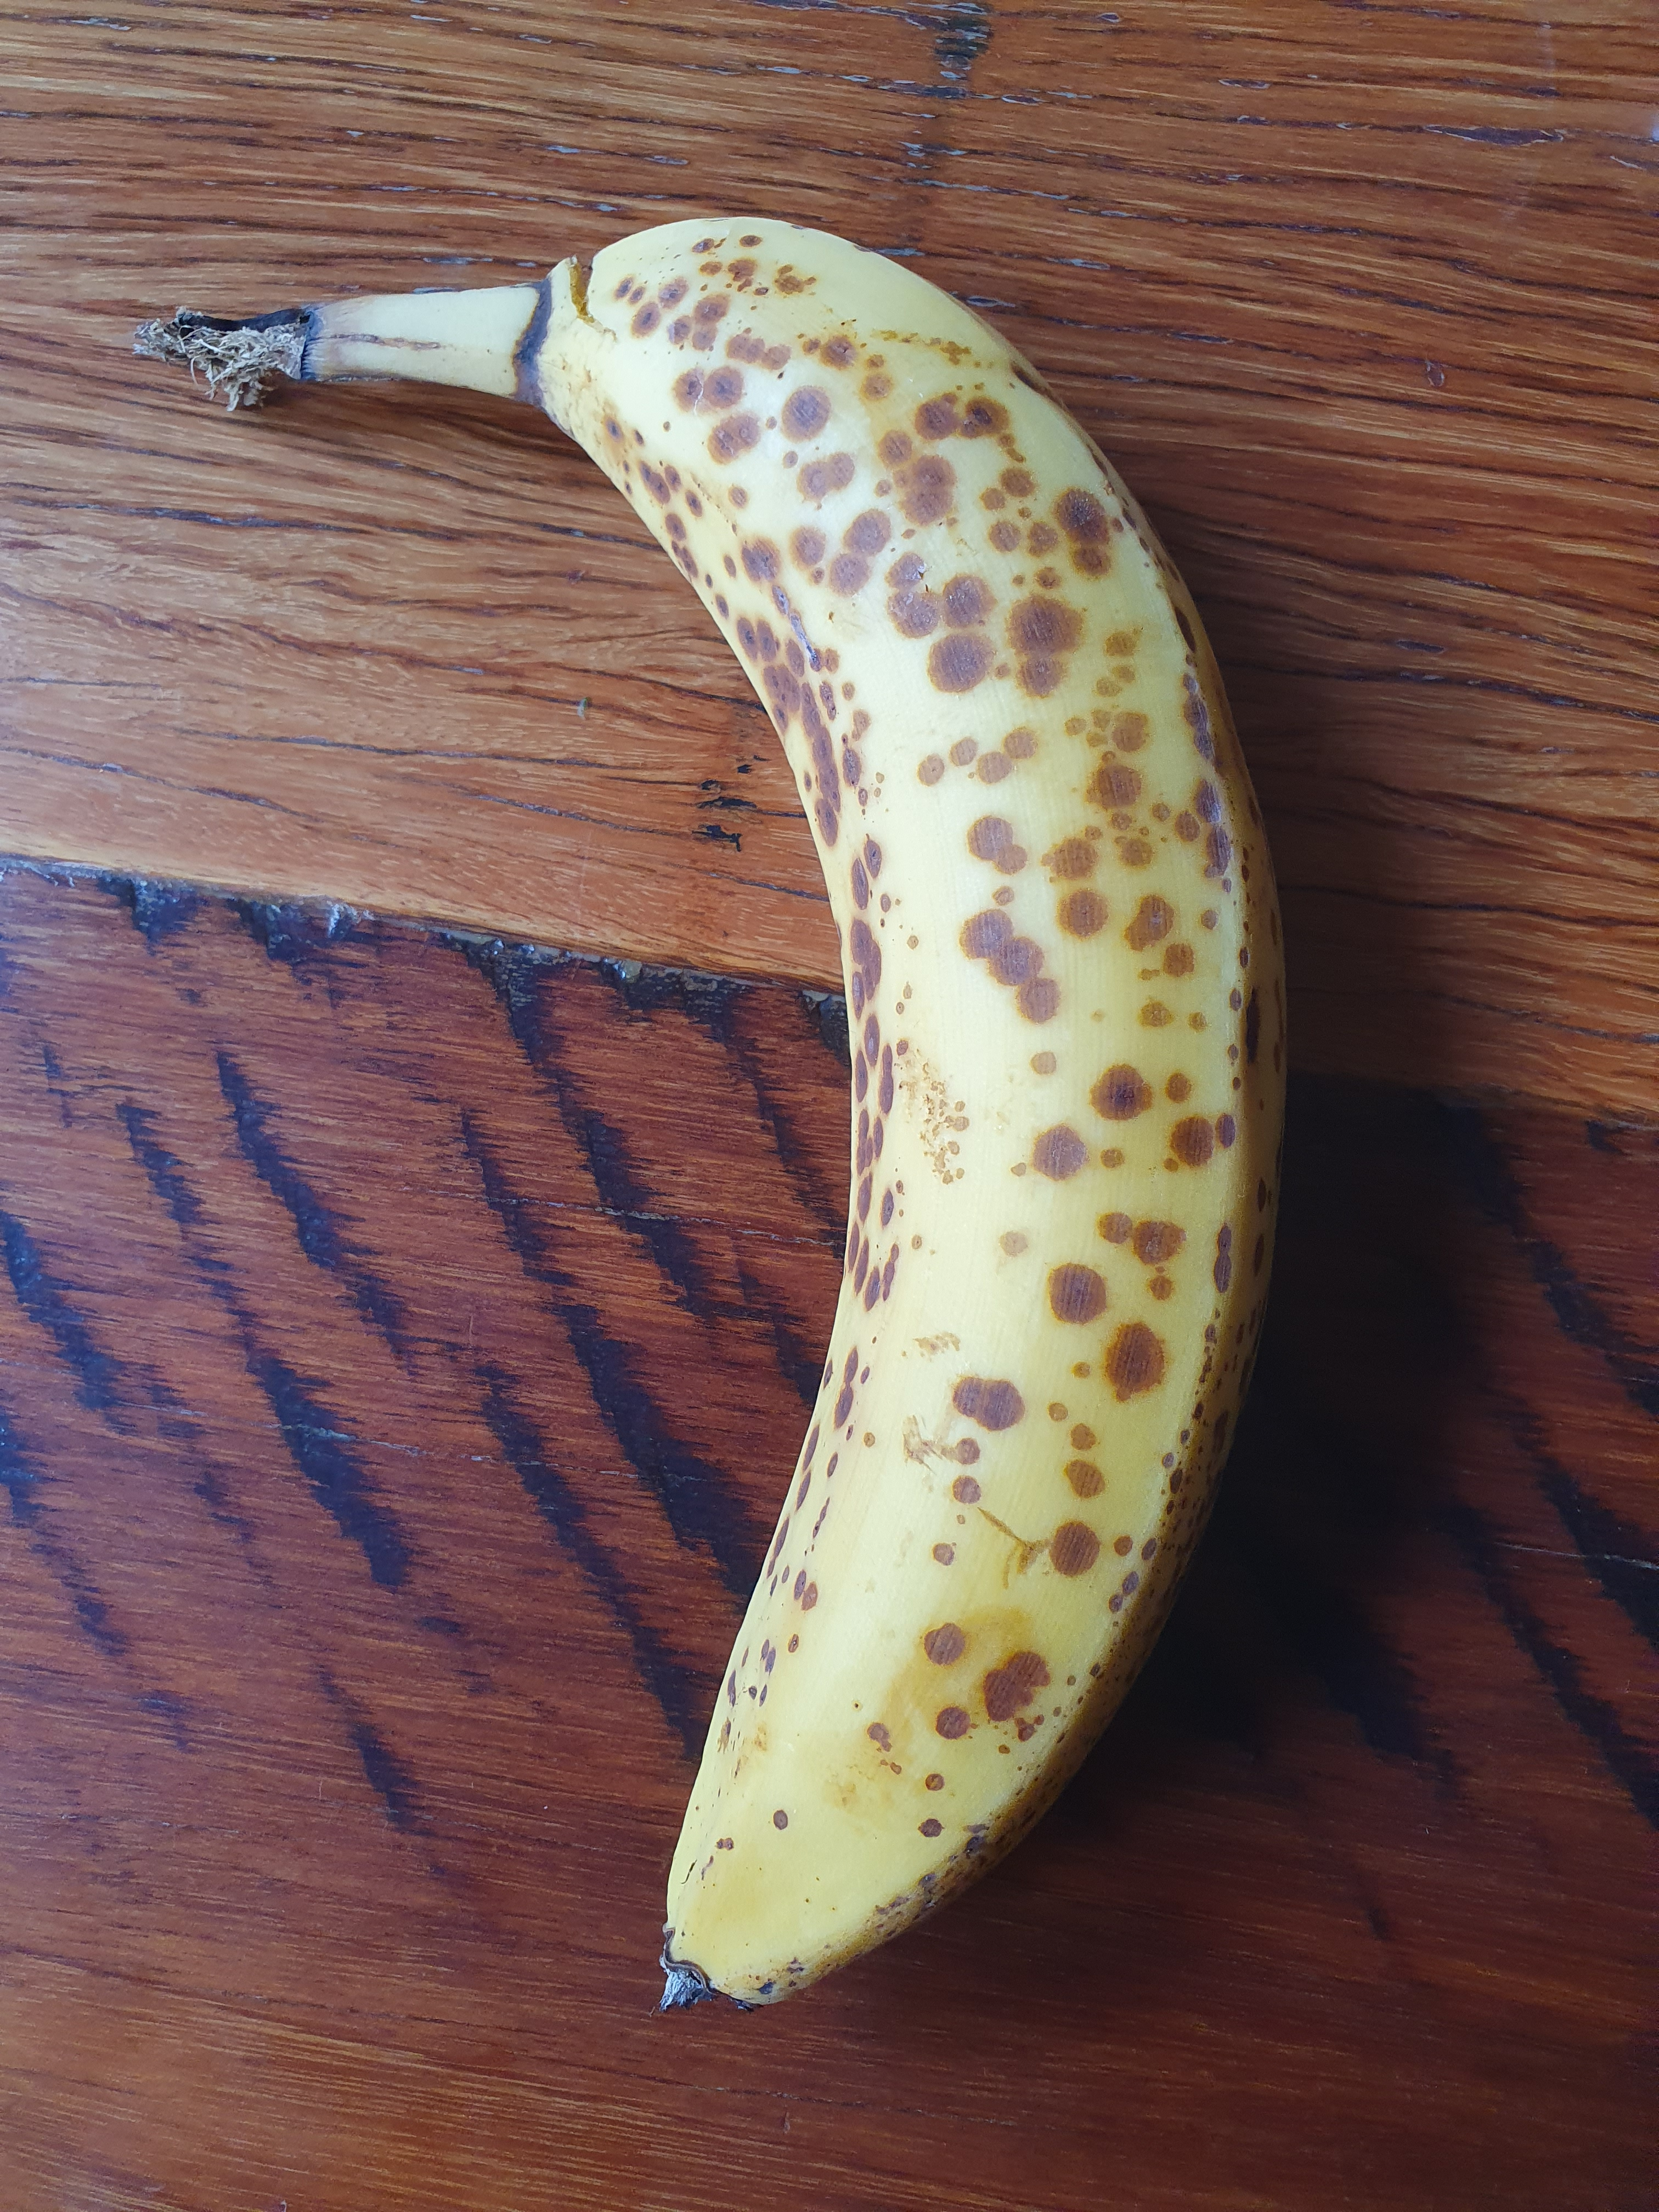banana: (108, 162, 1340, 2060)
